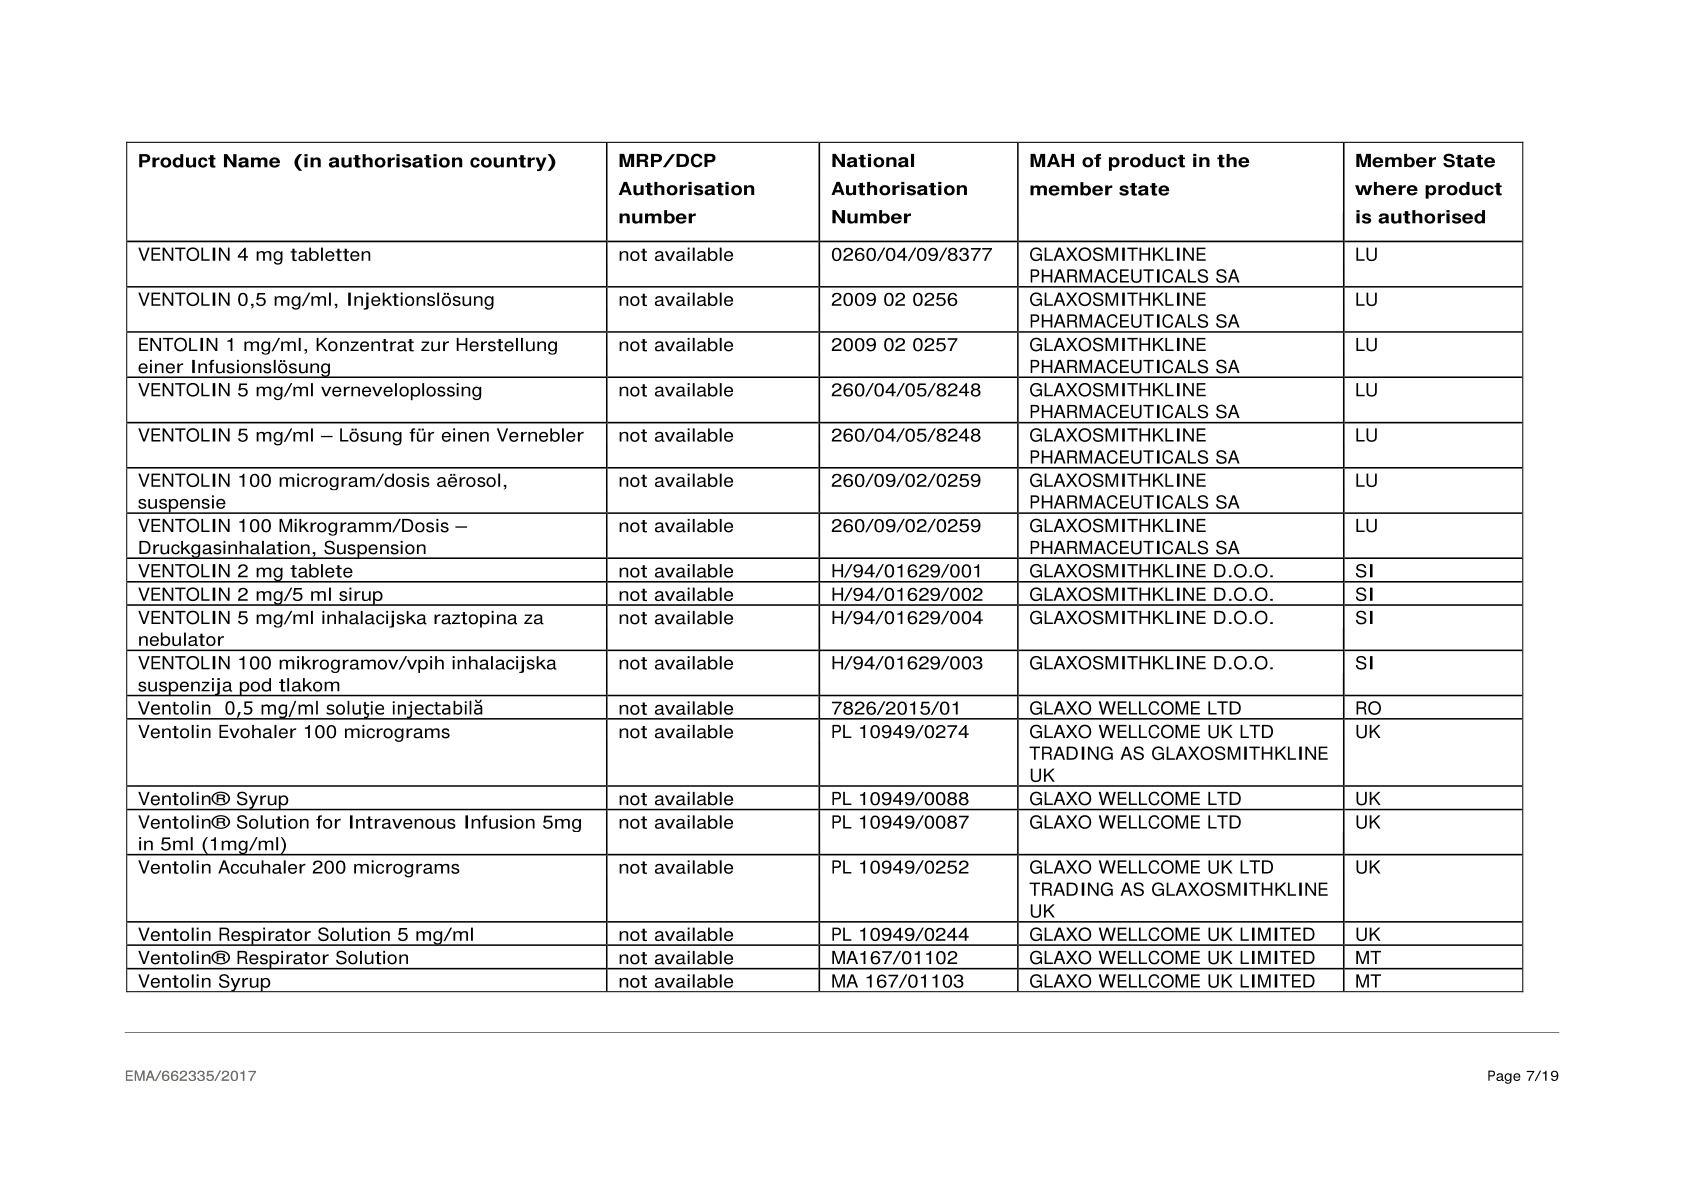full_lined: (125, 139, 1524, 994)
